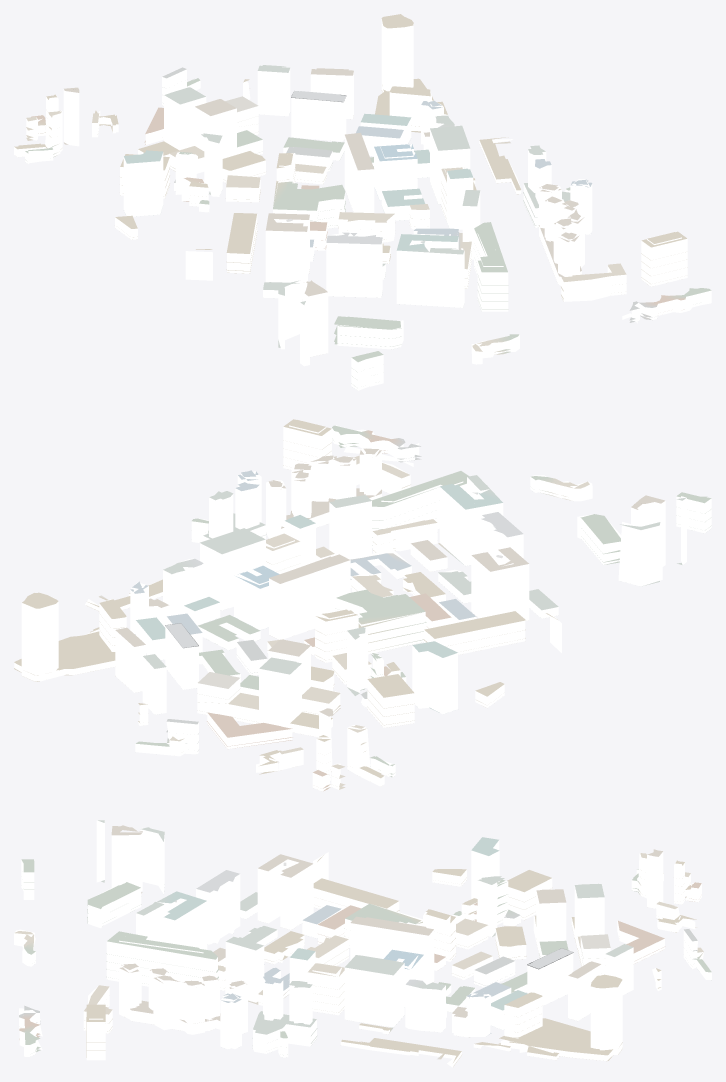
The model's file is buildings--11_-3-coarse.glb.
3 renders of one model, top to bottom at view 1: azimuth 30°, elevation 25°; view 2: azimuth 150°, elevation 25°; view 3: azimuth 270°, elevation 25°, orthographic. The views are drawn at different scales.
Visible parts, largest first — view 1: block_-11_-3_office, block_-11_-3_roof, block_-11_-3_residential; view 2: block_-11_-3_office, block_-11_-3_roof, block_-11_-3_residential; view 3: block_-11_-3_office, block_-11_-3_roof, block_-11_-3_residential.
Boxes of the visible parts, left/top/right/bottom form: block_-11_-3_office: left=63, top=19, right=592, bottom=366; block_-11_-3_roof: left=14, top=14, right=711, bottom=386; block_-11_-3_residential: left=14, top=69, right=711, bottom=390; block_-11_-3_office: left=21, top=447, right=686, bottom=770; block_-11_-3_roof: left=14, top=419, right=711, bottom=791; block_-11_-3_residential: left=14, top=425, right=711, bottom=791; block_-11_-3_office: left=96, top=820, right=663, bottom=1053; block_-11_-3_roof: left=15, top=820, right=711, bottom=1066; block_-11_-3_residential: left=14, top=852, right=711, bottom=1067.
Size of the model in its own units: 412 by 73.27 by 655.
